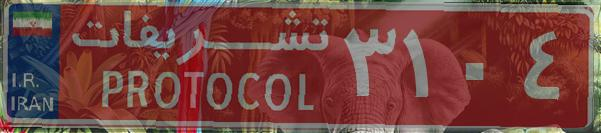0: (460, 20, 520, 115)
1: (400, 20, 460, 115)
3: (340, 20, 400, 115)
4: (520, 20, 580, 115)
تشریفات: (60, 8, 340, 125)
